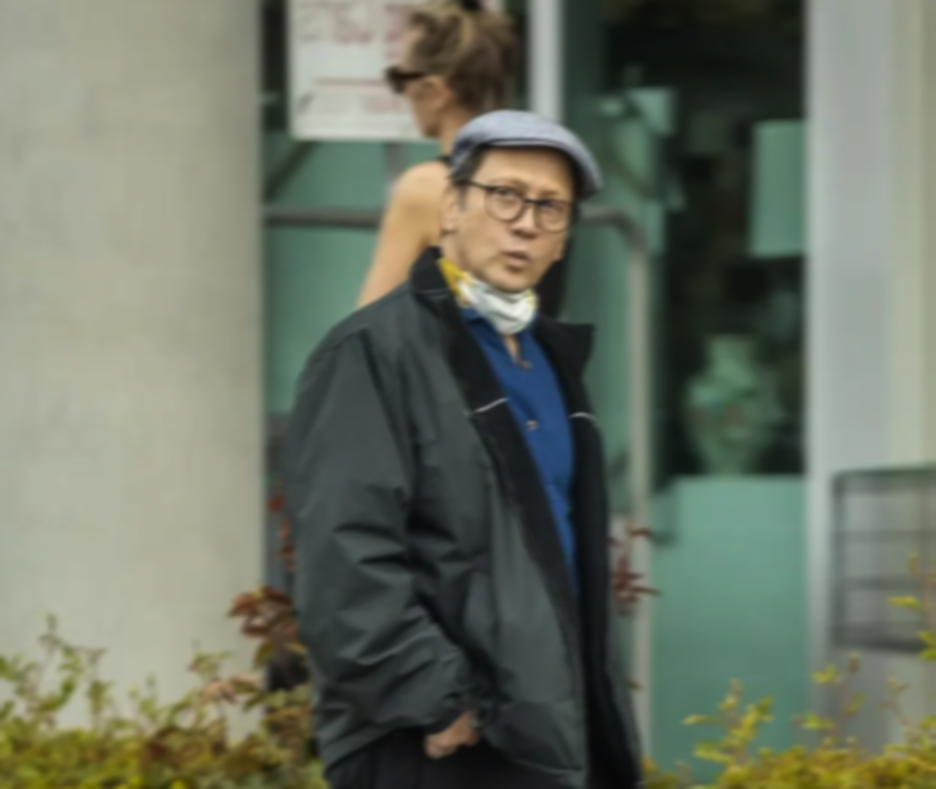mask_weared_incorrect: (424, 104, 603, 339)
